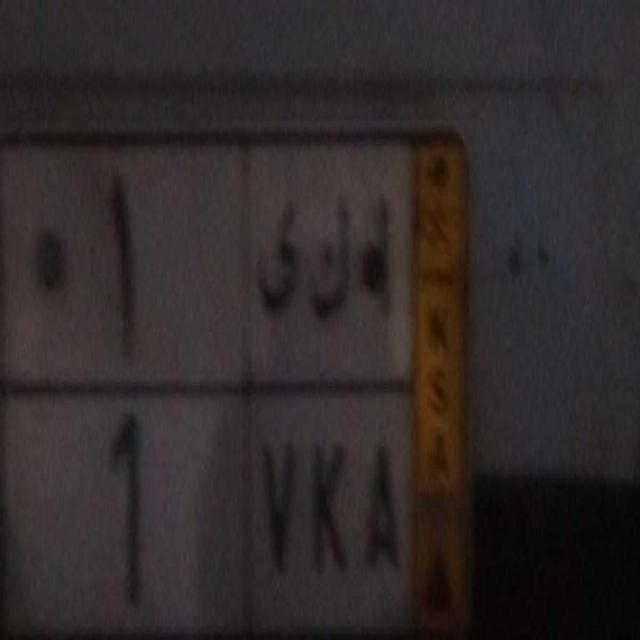license_plate: (0, 380, 413, 640)
